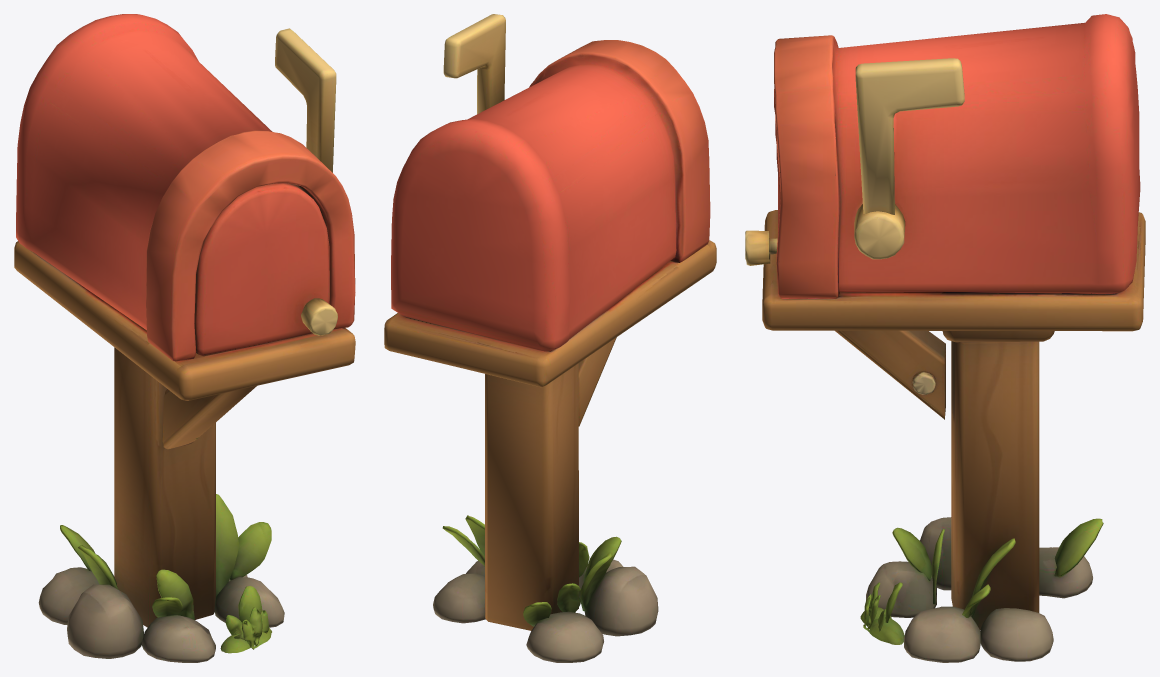
File: mailbox.glb
The picture shows the model from 3 angles, left to right: view 1: azimuth 30°, elevation 25°; view 2: azimuth 150°, elevation 25°; view 3: azimuth 270°, elevation 25°; orthographic projection. The views are drawn at different scales.
Parts seen in each view (by area): view 1: Mailbox; view 2: Mailbox; view 3: Mailbox.
Boxes of the visible parts, <box> form: Mailbox: <box>14,14,355,662</box>; Mailbox: <box>384,14,716,662</box>; Mailbox: <box>745,14,1145,662</box>.
Bounding box in the file's own units: 0.4082 × 0.998 × 0.5957.
Materials: 1 (1 with a texture image).
